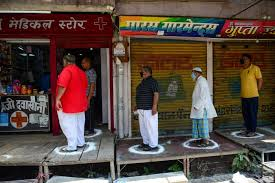mask: (188, 65, 207, 80), (137, 63, 153, 78), (78, 54, 92, 70), (237, 53, 251, 67)
